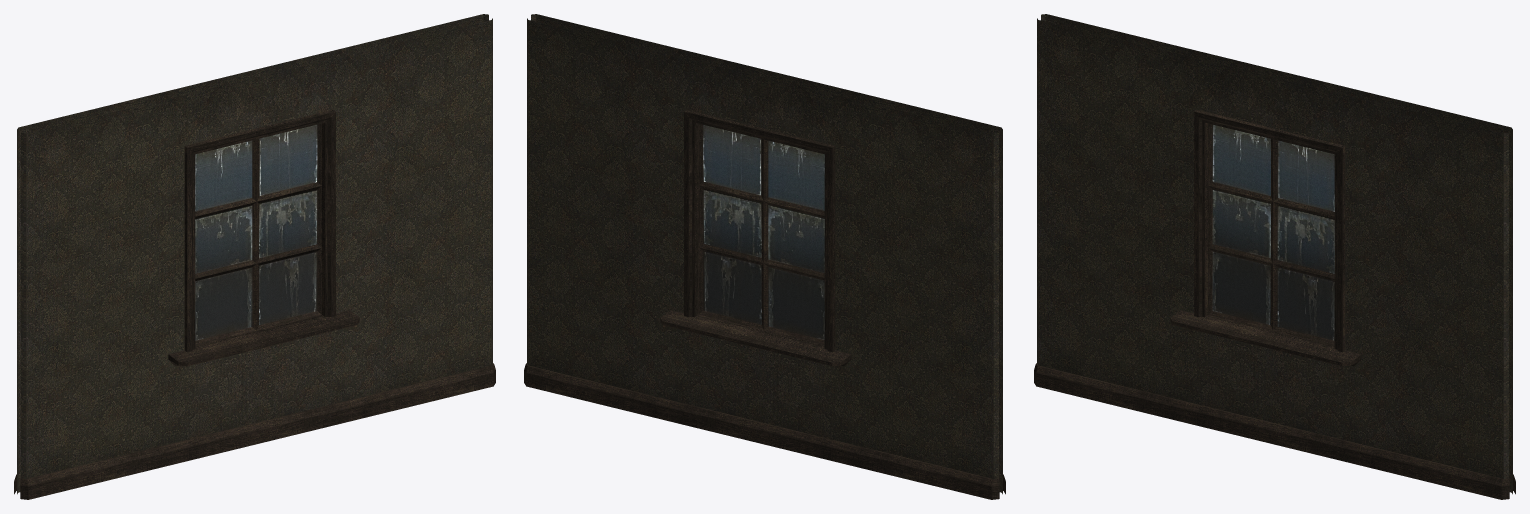
The model's file is window_2_1_single.glb.
3 views of the same model, side by side, from view 1: azimuth 30°, elevation 25°; view 2: azimuth 150°, elevation 25°; view 3: azimuth 330°, elevation 25° (orthographic).
Parts seen in each view (by area): view 1: window_2_1_single; view 2: window_2_1_single; view 3: window_2_1_single.
Boxes of the visible parts, box(x1,y1,x2,y2) form: window_2_1_single: box(14, 14, 495, 499); window_2_1_single: box(524, 14, 1005, 499); window_2_1_single: box(1034, 14, 1515, 499).
Bounding box in the file's own units: 4.09 × 3 × 0.52.
3 materials, 3 textured.
